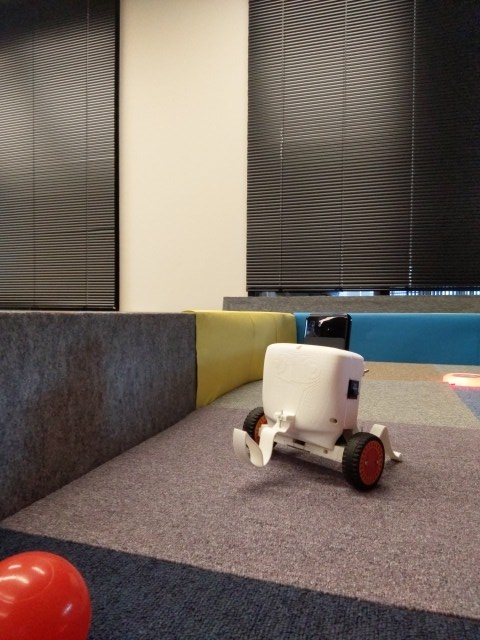br: (228, 310, 404, 493)
r: (443, 367, 480, 389)
